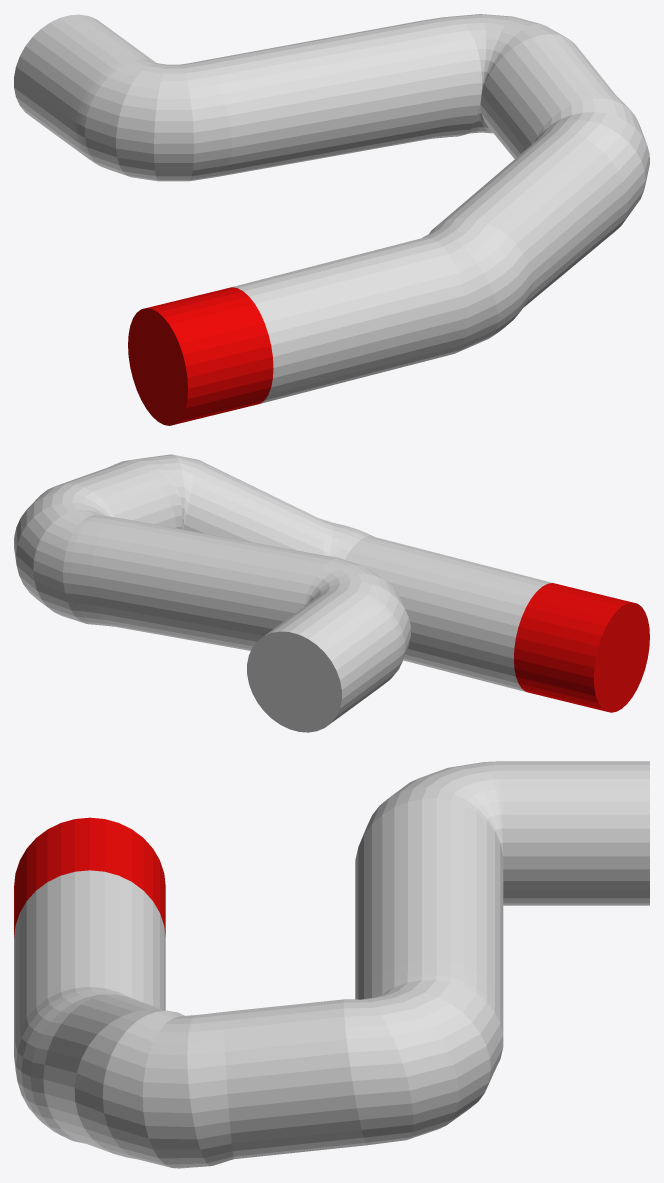
The model's file is Circuit5.fbx.
The picture shows the model from 3 angles, top to bottom: view 1: azimuth 30°, elevation 25°; view 2: azimuth 150°, elevation 25°; view 3: azimuth 270°, elevation 25°; orthographic projection. The views are drawn at different scales.
Visible parts, largest first — view 1: Trial5; view 2: Trial5; view 3: Trial5.
Boxes of the visible parts, x1,y1,x2,y2 form: Trial5: (14,14,649,425); Trial5: (14,454,649,732); Trial5: (14,761,649,1168).
Size of the model in its own units: 167 by 63.72 by 137.
